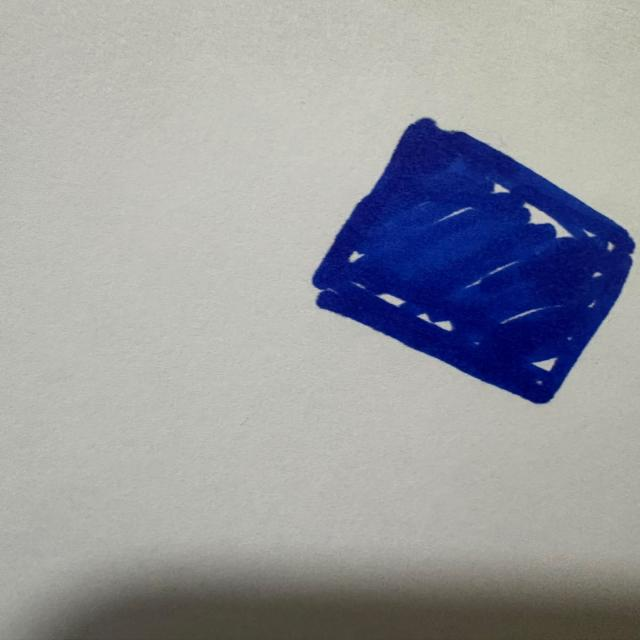Square: (312, 118, 634, 404)
